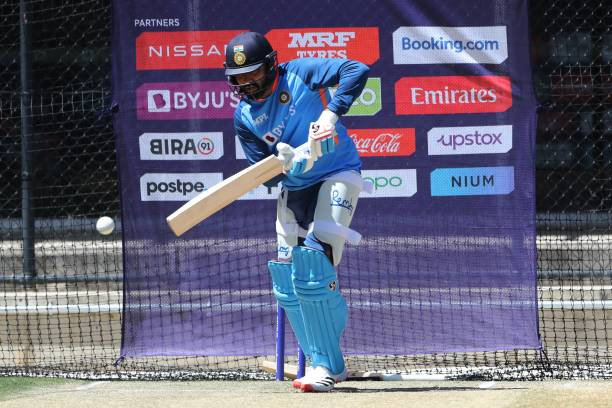bottom left: (160, 211, 178, 227)
bottom right: (170, 224, 188, 243)
top left: (267, 147, 280, 162)
top right: (275, 164, 290, 178)
